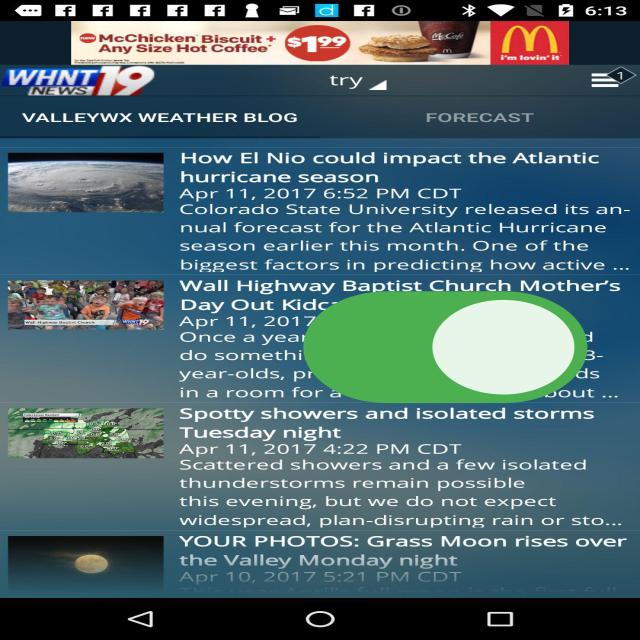social proof: (290, 248, 600, 455)
